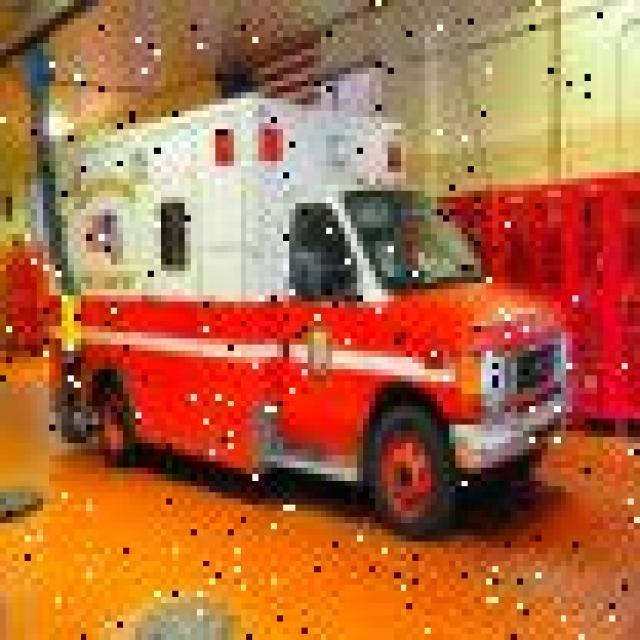emergency-vehicle: (52, 99, 594, 542)
